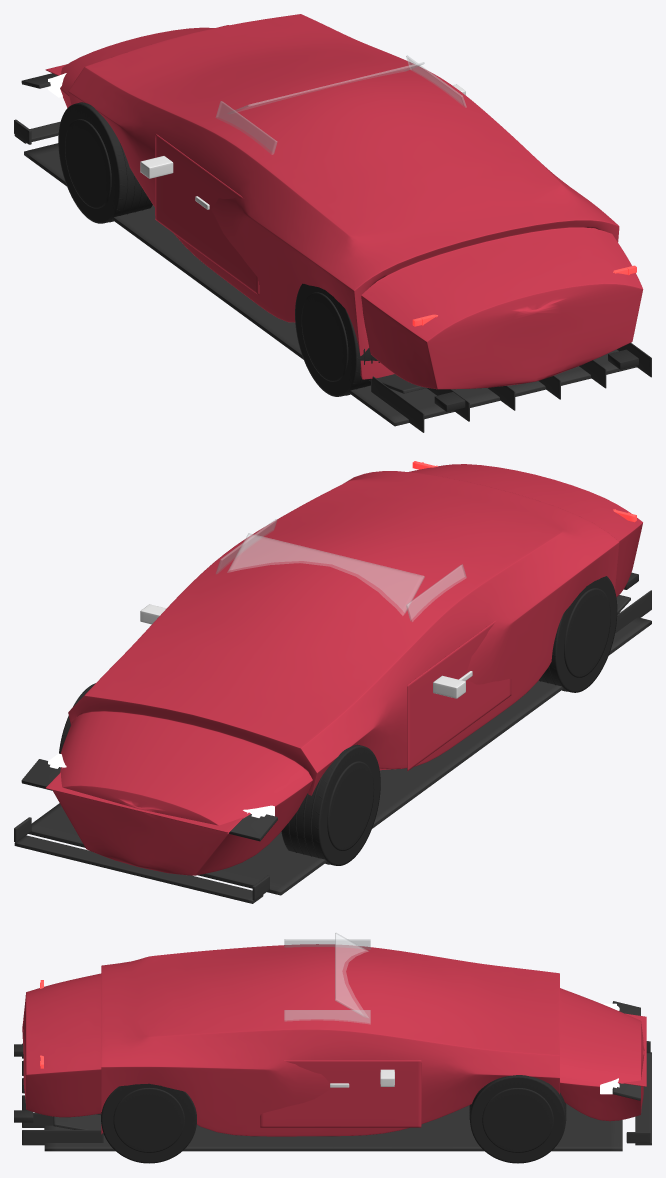
The model's file is vehicle.opt.glb.
3 renders of one model, top to bottom at view 1: azimuth 30°, elevation 25°; view 2: azimuth 150°, elevation 25°; view 3: azimuth 270°, elevation 25°, orthographic. The views are drawn at different scales.
Parts seen in each view (by area): view 1: BODY_MainShell, UNDERBODY_FlatFloor, WHEEL_FL_Tire, BODY_Door_FL, WHEEL_RL_Tire, GLASS_Greenhouse, JEWELRY_Daytona_FratzonicExhaust, JEWELRY_Hardware, AERO_FrontSplitter; view 2: BODY_MainShell, UNDERBODY_FlatFloor, WHEEL_FL_Tire, BODY_Door_FL, GLASS_Greenhouse, WHEEL_RL_Tire, AERO_FrontSplitter, AERO_Daytona_RWing, BODY_Hood, JEWELRY_Hardware; view 3: BODY_MainShell, UNDERBODY_FlatFloor, BODY_Door_FR, WHEEL_FR_Tire, WHEEL_RR_Tire, GLASS_Greenhouse, AERO_FrontSplitter, AERO_Daytona_RWing, BODY_Hood, JEWELRY_Daytona_FratzonicExhaust, JEWELRY_Hardware.
Part boxes in pixels (<box>): BODY_MainShell: <box>60,14,643,389</box>; UNDERBODY_FlatFloor: <box>24,143,651,432</box>; WHEEL_FL_Tire: <box>58,102,152,223</box>; BODY_Door_FL: <box>155,133,259,295</box>; WHEEL_RL_Tire: <box>295,283,379,396</box>; GLASS_Greenhouse: <box>216,55,466,154</box>; JEWELRY_Daytona_FratzonicExhaust: <box>434,349,638,411</box>; JEWELRY_Hardware: <box>140,84,465,209</box>; AERO_FrontSplitter: <box>14,119,60,144</box>; BODY_MainShell: <box>53,464,642,875</box>; UNDERBODY_FlatFloor: <box>28,590,651,895</box>; WHEEL_FL_Tire: <box>281,744,380,865</box>; BODY_Door_FL: <box>407,620,511,771</box>; GLASS_Greenhouse: <box>216,519,466,621</box>; WHEEL_RL_Tire: <box>539,576,617,692</box>; AERO_FrontSplitter: <box>14,817,269,903</box>; AERO_Daytona_RWing: <box>21,759,277,841</box>; BODY_Hood: <box>45,773,243,832</box>; JEWELRY_Hardware: <box>140,604,472,698</box>; BODY_MainShell: <box>22,944,644,1136</box>; UNDERBODY_FlatFloor: <box>22,1043,622,1151</box>; BODY_Door_FR: <box>260,1060,421,1127</box>; WHEEL_FR_Tire: <box>469,1075,566,1163</box>; WHEEL_RR_Tire: <box>101,1083,196,1163</box>; GLASS_Greenhouse: <box>284,933,370,1023</box>; AERO_FrontSplitter: <box>626,1041,651,1145</box>; AERO_Daytona_RWing: <box>612,1001,640,1100</box>; BODY_Hood: <box>623,1013,646,1086</box>; JEWELRY_Daytona_FratzonicExhaust: <box>14,1044,33,1122</box>; JEWELRY_Hardware: <box>330,1069,394,1087</box>.
Size of what is drawn, in the model's own units: 2.37 by 1.36 by 5.31.
